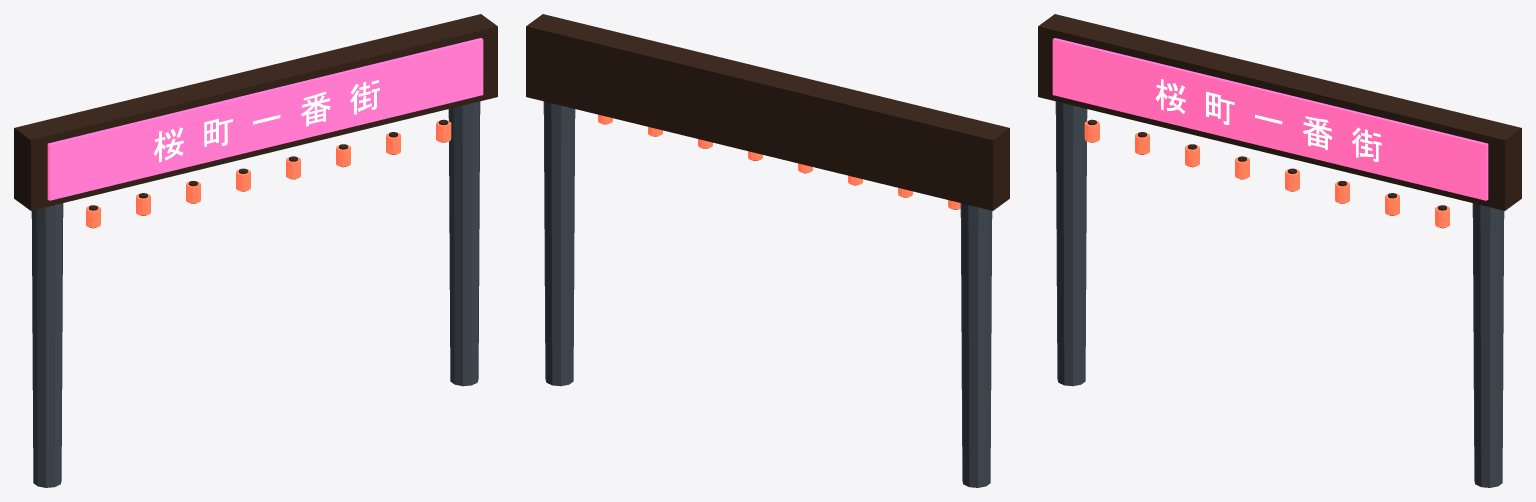
File: lm_arch.glb
3 renders of one model, left to right at view 1: azimuth 30°, elevation 25°; view 2: azimuth 150°, elevation 25°; view 3: azimuth 330°, elevation 25°, orthographic.
Visible parts, largest first — view 1: beam_face.001, beam.105, pillar.006, pillar.007, arch_text.001; view 2: beam.105, pillar.006, pillar.007; view 3: beam_face.001, beam.105, pillar.007, pillar.006, arch_text.001.
Part boxes in pixels (x1,y1,x2,y2): beam_face.001: (47,38,483,200); beam.105: (14,14,497,210); pillar.006: (31,203,63,487); pillar.007: (448,101,480,386); arch_text.001: (154,80,379,162); beam.105: (526,14,1009,210); pillar.006: (960,203,992,487); pillar.007: (543,101,575,386); beam_face.001: (1052,38,1488,200); beam.105: (1038,14,1521,210); pillar.007: (1472,203,1504,487); pillar.006: (1055,101,1087,386); arch_text.001: (1155,79,1381,161).
Size of the model in its own units: 11.2 by 8.11 by 1.03.
